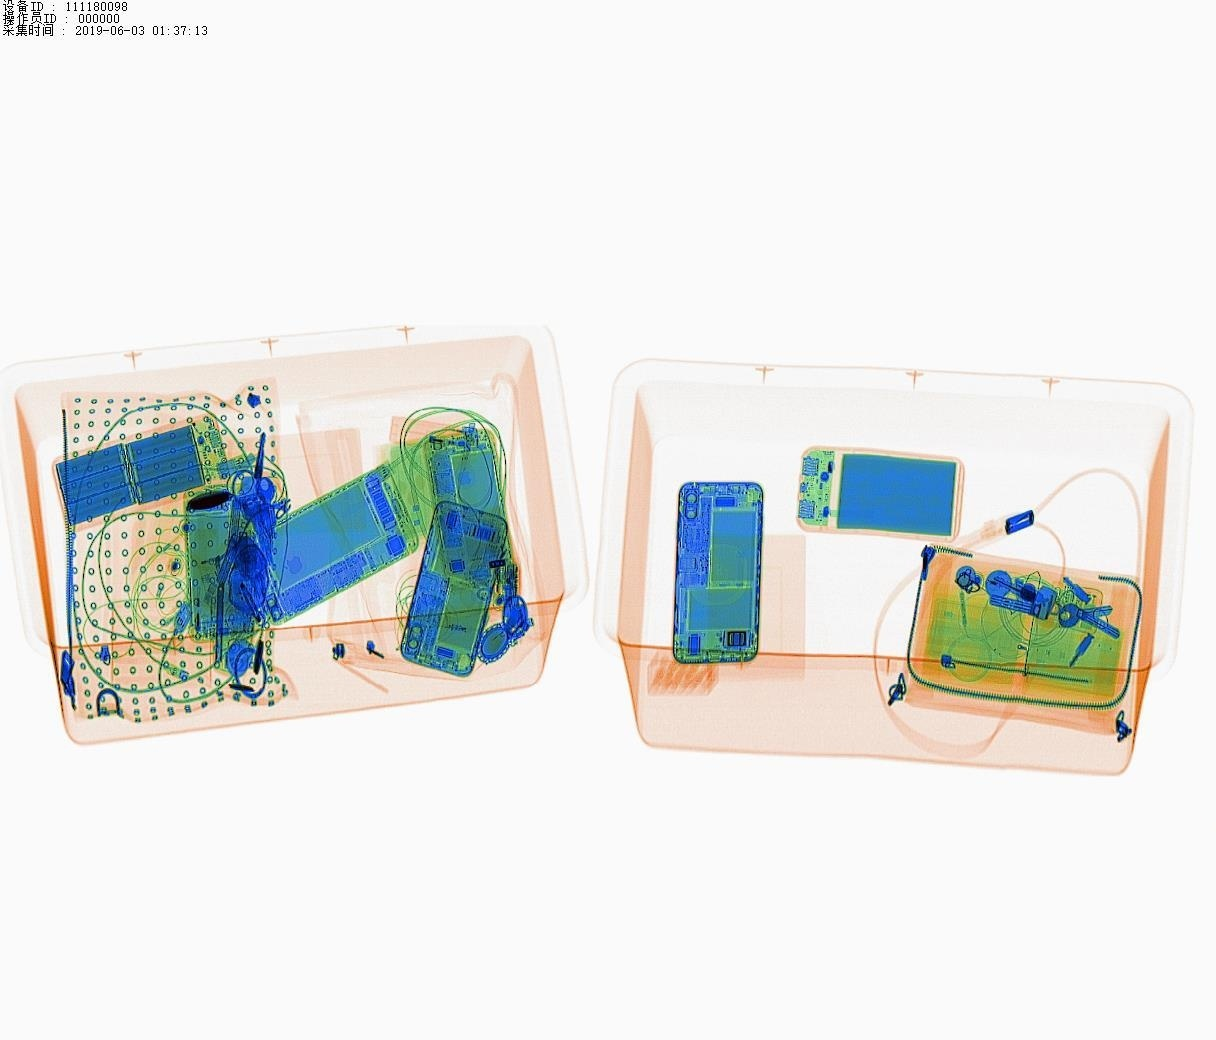NonmetallicFire: (386, 405, 501, 460)
